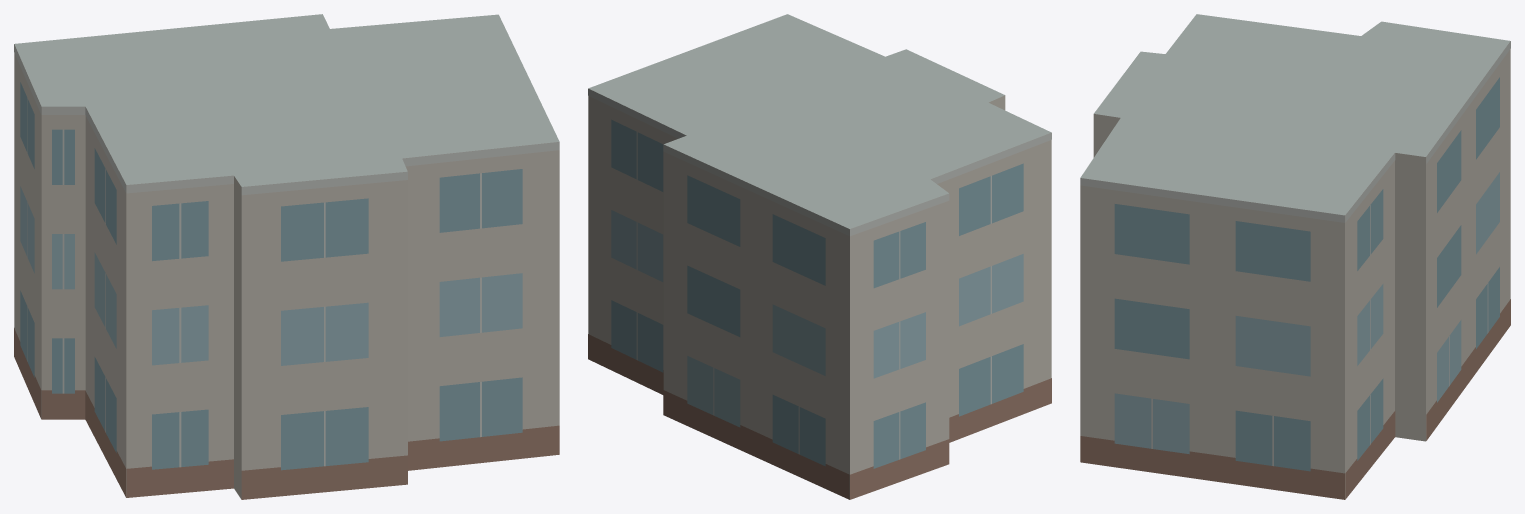
File: survey-upis-32572582.glb
3 views of the same model, side by side, from view 1: azimuth 30°, elevation 25°; view 2: azimuth 150°, elevation 25°; view 3: azimuth 270°, elevation 25° (orthographic). The views are drawn at different scales.
Parts seen in each view (by area): view 1: survey-upis-32572582.tmp; view 2: survey-upis-32572582.tmp; view 3: survey-upis-32572582.tmp.
Boxes of the visible parts, box(x1,y1,x2,y2) form: survey-upis-32572582.tmp: box(14, 14, 559, 499); survey-upis-32572582.tmp: box(588, 14, 1051, 499); survey-upis-32572582.tmp: box(1080, 14, 1510, 499).
Bounding box in the file's own units: 13.91 × 9.15 × 12.56.
